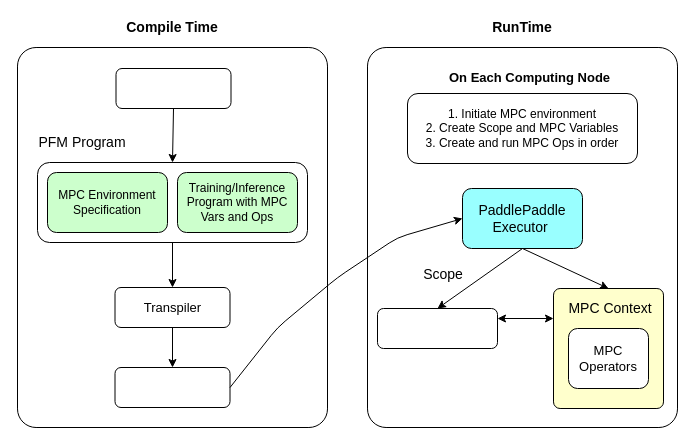
This 695x445 diagram has some shape labels left out. The centre of each missing label's shape, as x and y in pixels:
"map <name, MpcVar>" goes at (437,328).
"PFM ProgramDesc" goes at (172,387).
"Python Frontend" goes at (173,88).
